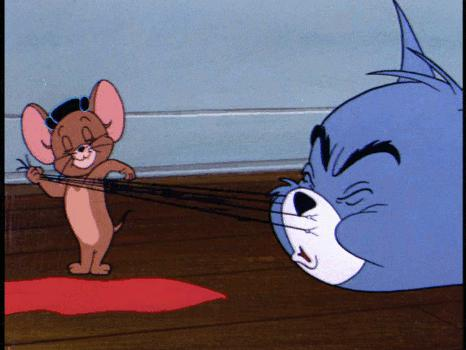jerry: (15, 79, 136, 277)
